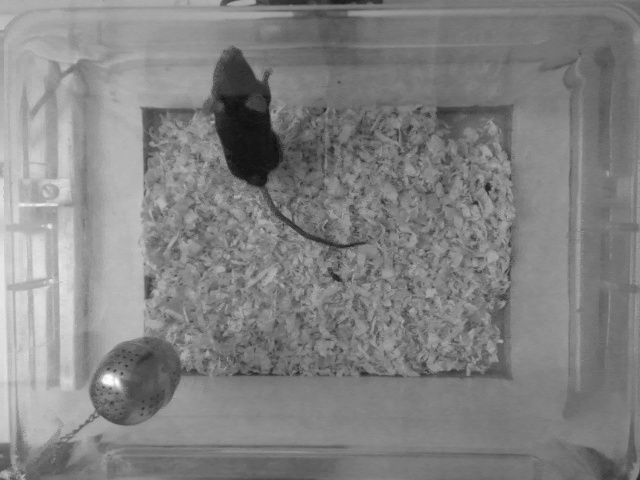mice: (205, 41, 373, 248)
